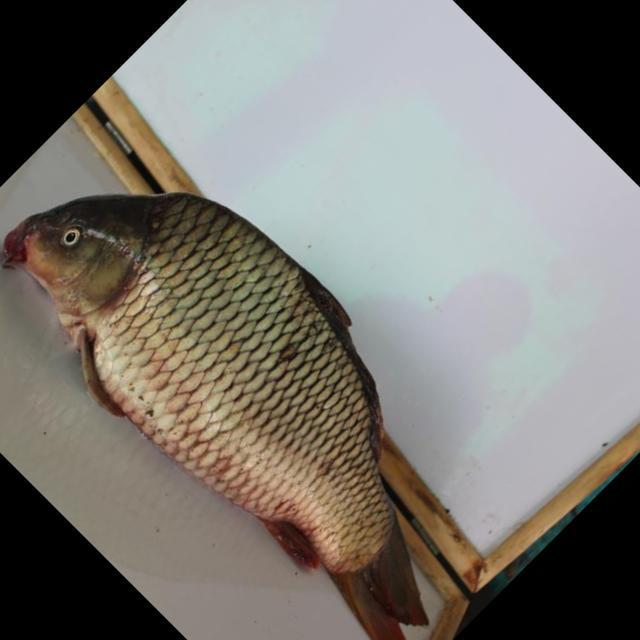CommonCarp: (4, 195, 462, 640)
